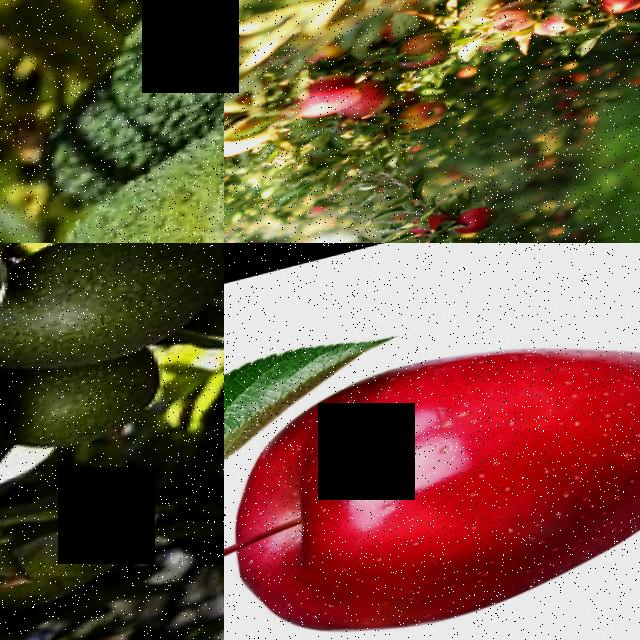apple: (224, 293, 640, 640), (291, 69, 377, 129), (479, 0, 553, 47), (400, 94, 464, 145), (393, 29, 453, 82), (295, 35, 359, 75), (454, 201, 510, 243), (529, 13, 580, 52), (581, 0, 640, 29), (399, 214, 453, 243), (344, 0, 419, 14), (224, 19, 244, 67), (405, 0, 471, 13), (309, 201, 337, 225), (234, 236, 275, 243)
avocado: (29, 29, 224, 243), (0, 243, 224, 408), (0, 0, 224, 160), (0, 341, 177, 476), (0, 371, 28, 517)
